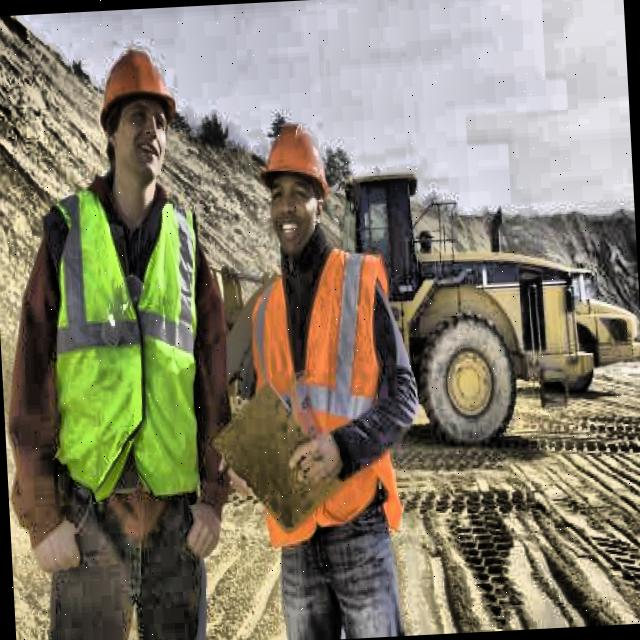helmet: (84, 22, 191, 212), (253, 110, 341, 262)
